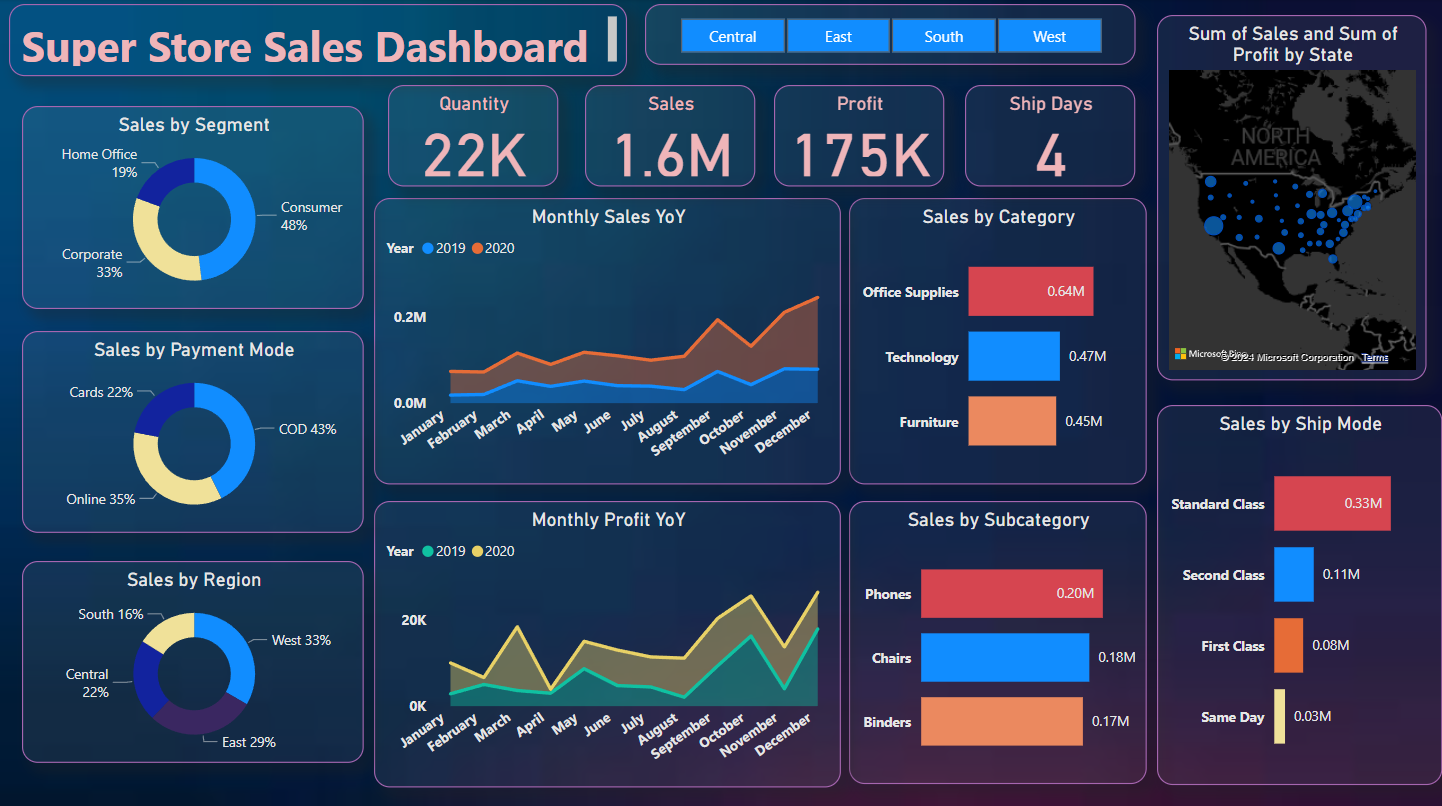

The dashboard page shown, as its layout file describes it:
{"tool":"powerbi","page":{"name":"Dashboard","canvas":[1280,720],"ordinal":0},"visuals":[{"type":"clusteredBarChart","title":"Sales by Category","fields":{"Category":["Sheet1.Category"],"Y":["Sum(Sheet1.Sales)"]},"box":[752.8,176,263.6,253.9],"z":0},{"type":"clusteredBarChart","title":"Sales by Subcategory","fields":{"Y":["Sum(Sheet1.Sales)"],"Category":["Sheet1.Sub-Category"]},"box":[752.8,445.5,263.6,250.9],"z":1000},{"type":"clusteredBarChart","title":"Sales by Ship Mode","fields":{"Y":["Sum(Sheet1.Sales)"],"Category":["Sheet1.Ship Mode"]},"box":[1026.1,359.9,252.9,336.5],"z":2000},{"type":"stackedAreaChart","title":"Monthly Sales YoY","fields":{"Y":["Sum(Sheet1.Sales)"],"Category":["Sheet1.Order Date.Variation.Date Hierarchy.Month","Sheet1.Order Date.Variation.Date Hierarchy.Day"],"Series":["Sheet1.Order Date.Variation.Date Hierarchy.Year"]},"box":[331.7,176,414.3,253.9],"z":3000},{"type":"stackedAreaChart","title":"Monthly Profit YoY","fields":{"Y":["Sum(Sheet1.Profit)"],"Category":["Sheet1.Order Date.Variation.Date Hierarchy.Month","Sheet1.Order Date.Variation.Date Hierarchy.Day"],"Series":["Sheet1.Order Date.Variation.Date Hierarchy.Year"]},"box":[331.7,445.5,414.3,253.9],"z":4000},{"type":"map","fields":{"Category":["Sheet1.State"],"Size":["Sum(Sheet1.Sales)"]},"box":[1026.1,14.6,239.3,323.9],"z":5000},{"type":"donutChart","title":"Sales by Segment","fields":{"Category":["Sheet1.Segment"],"Y":["Sum(Sheet1.Sales)"]},"box":[19.5,95.3,303.5,179.9],"z":6000},{"type":"donutChart","title":"Sales by Payment Mode","fields":{"Category":["Sheet1.Payment Mode"],"Y":["Sum(Sheet1.Sales)"]},"box":[19.5,294.7,303.5,179],"z":7000},{"type":"textbox","box":[7.8,4.9,547.6,64.2],"z":8000},{"type":"card","title":"Sales","fields":{"Values":["Sum(Sheet1.Sales)"]},"box":[518.4,75.9,150.8,90.5],"z":9000},{"type":"card","title":"Ship Days","fields":{"Values":["Avg(Sheet1.AvdDeliveryDate)"]},"box":[855.9,75.9,150.8,90.5],"z":10000},{"type":"card","title":"Profit","fields":{"Values":["Sum(Sheet1.Profit)"]},"box":[686.7,75.9,150.8,90.5],"z":11000},{"type":"card","title":"Quantity","fields":{"Values":["Sum(Sheet1.Quantity)"]},"box":[344.3,75.9,150.8,90.5],"z":12000},{"type":"slicer","fields":{"Values":["Sheet1.Region"]},"box":[571.9,4.9,434.8,54.5],"z":13000},{"type":"donutChart","title":"Sales by Region","fields":{"Category":["Sheet1.Region"],"Y":["Sum(Sheet1.Sales)"]},"box":[19.5,498,303.5,179],"z":14000}]}

Visuals, with their boxes in screenshot pixels (x1, y1, x2, y2), scaled from the page's 1280x720 canvas onto the 1442x806 screenshot:
"Sales by Category" clusteredBarChart: (848,197,1145,481)
"Sales by Subcategory" clusteredBarChart: (848,499,1145,780)
"Sales by Ship Mode" clusteredBarChart: (1156,403,1441,780)
"Monthly Sales YoY" stackedAreaChart: (374,197,840,481)
"Monthly Profit YoY" stackedAreaChart: (374,499,840,783)
map - Sheet1.State x Sum(Sheet1.Sales): (1156,16,1426,379)
"Sales by Segment" donutChart: (22,107,364,308)
"Sales by Payment Mode" donutChart: (22,330,364,530)
textbox: (9,5,626,77)
"Sales" card: (584,85,754,186)
"Ship Days" card: (964,85,1134,186)
"Profit" card: (774,85,943,186)
"Quantity" card: (388,85,558,186)
slicer - Sheet1.Region: (644,5,1134,66)
"Sales by Region" donutChart: (22,557,364,758)
